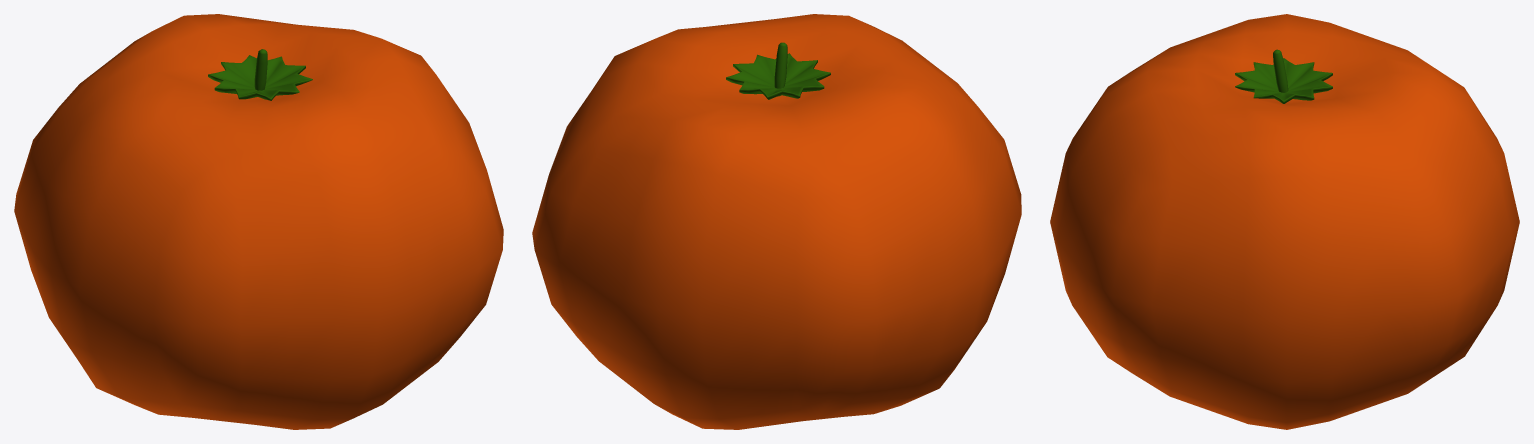
File: Tomato.fbx
3 views of the same model, side by side, from view 1: azimuth 30°, elevation 25°; view 2: azimuth 150°, elevation 25°; view 3: azimuth 270°, elevation 25° (orthographic). The views are drawn at different scales.
Visible parts, largest first — view 1: pCube29; view 2: pCube29; view 3: pCube29.
Part boxes in pixels (<box>): pCube29: <box>14,14,503,429</box>; pCube29: <box>532,14,1021,429</box>; pCube29: <box>1050,14,1519,429</box>.
Bounding box in the file's own units: 0.867 × 0.7137 × 0.8693.
